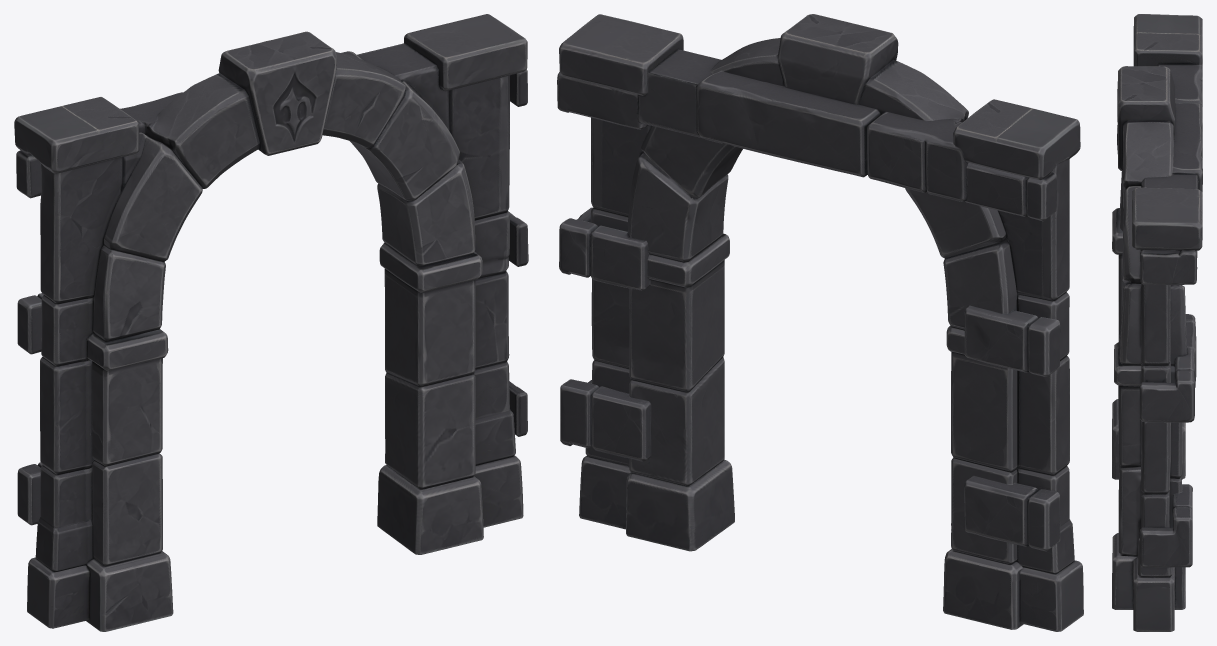
The model's file is ENV_ArchedDoorFrame_Up.fbx.
3 views of the same model, side by side, from view 1: azimuth 30°, elevation 25°; view 2: azimuth 150°, elevation 25°; view 3: azimuth 270°, elevation 25° (orthographic). The views are drawn at different scales.
Parts seen in each view (by area): view 1: Mesh_0; view 2: Mesh_0; view 3: Mesh_0.
Part boxes in pixels (x1=…): Mesh_0: x1=14, y1=14, x2=528, y2=631; Mesh_0: x1=557, y1=14, x2=1083, y2=631; Mesh_0: x1=1112, y1=14, x2=1202, y2=631.
Bounding box in the file's own units: 185 × 190 × 35.02.
1 material, 1 textured.
